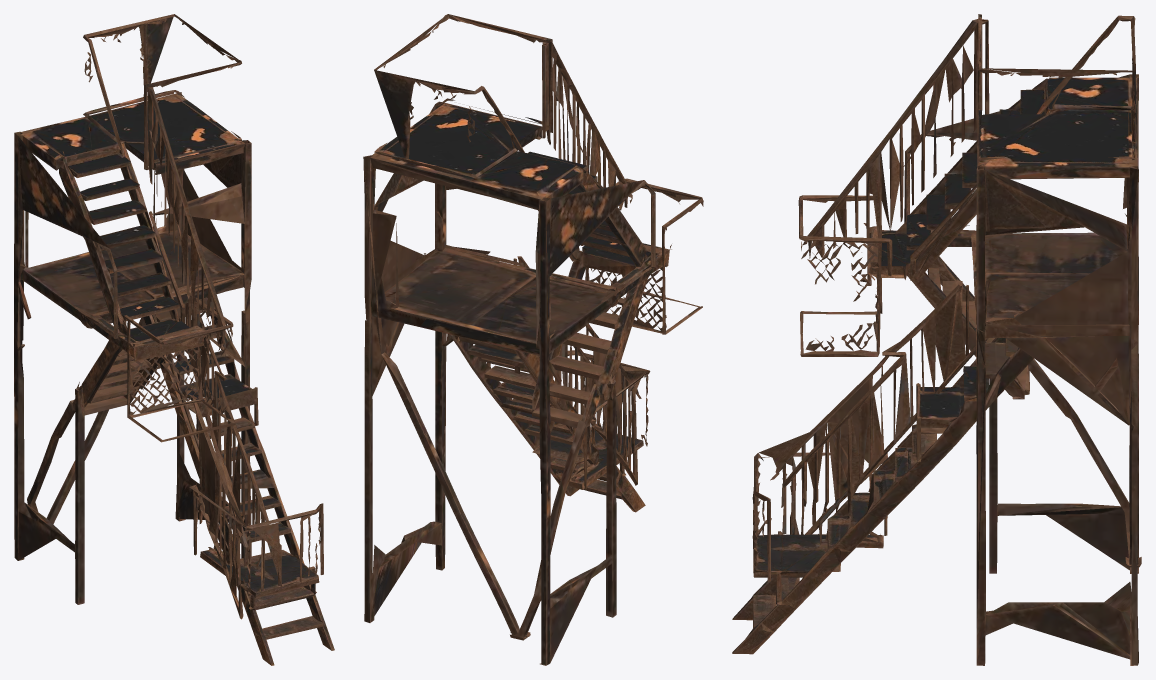
File: fire-escape.glb
3 renders of one model, left to right at view 1: azimuth 30°, elevation 25°; view 2: azimuth 150°, elevation 25°; view 3: azimuth 270°, elevation 25°, orthographic. The views are drawn at different scales.
Size of the model in its own units: 0.6612 by 1.9 by 1.19.
Materials: 1 (1 with a texture image).
